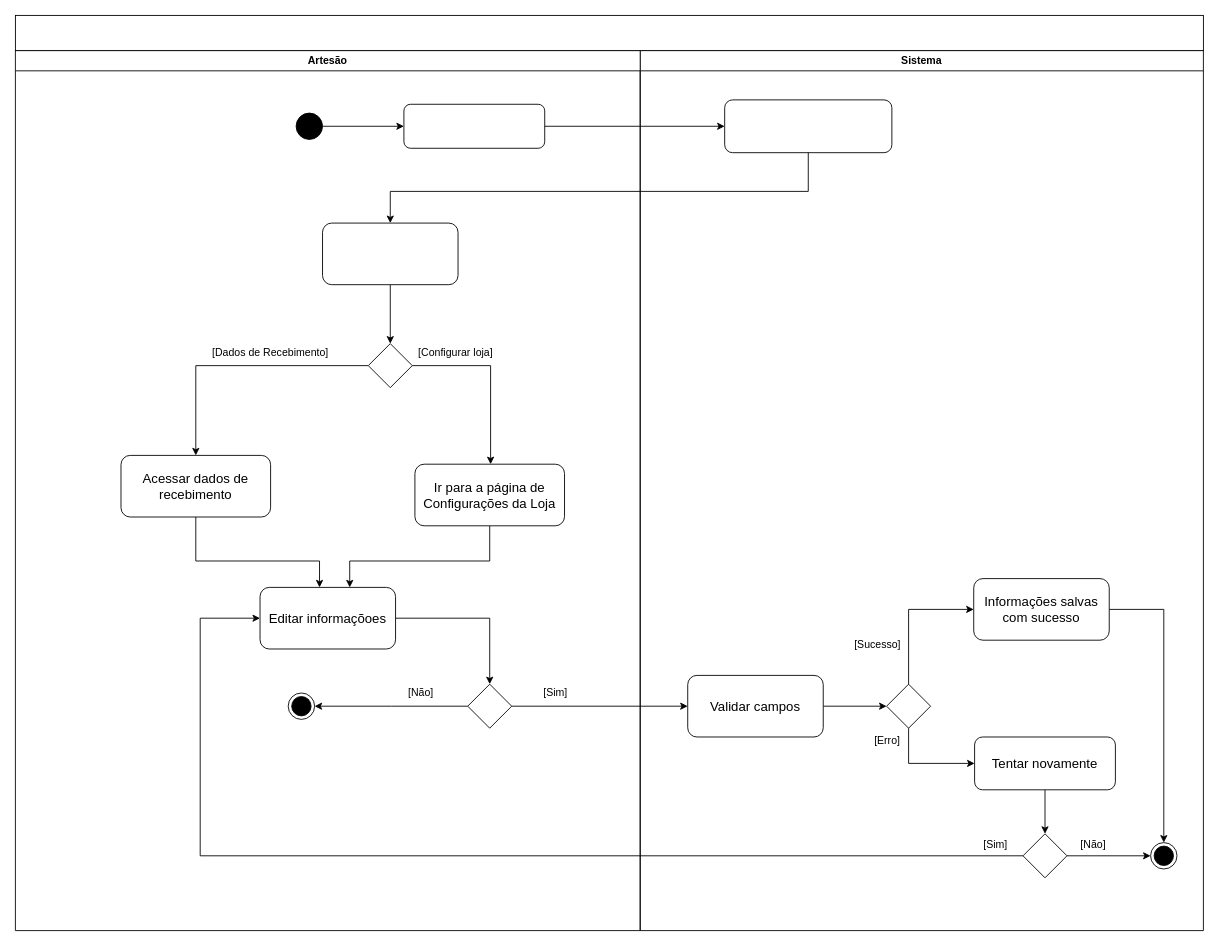
This 1219x946 diagram has some shape labels left out. Here are the shapes that lost their labels. From the top down, the box of each, then its label:
(15, 15, 1203, 51): Diagrama de Atividade: Gerenciar Loja e Recebimentos do Artesão
(403, 103, 545, 148): Acessar Painel do Artesão
(724, 99, 892, 153): Carregar aba Resumo
(322, 222, 458, 285): Visualizar as métricas e gráficos
